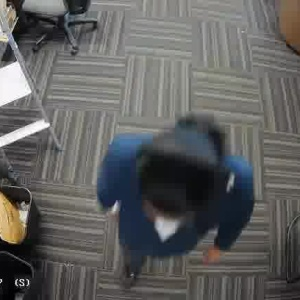person: (79, 105, 251, 266)
